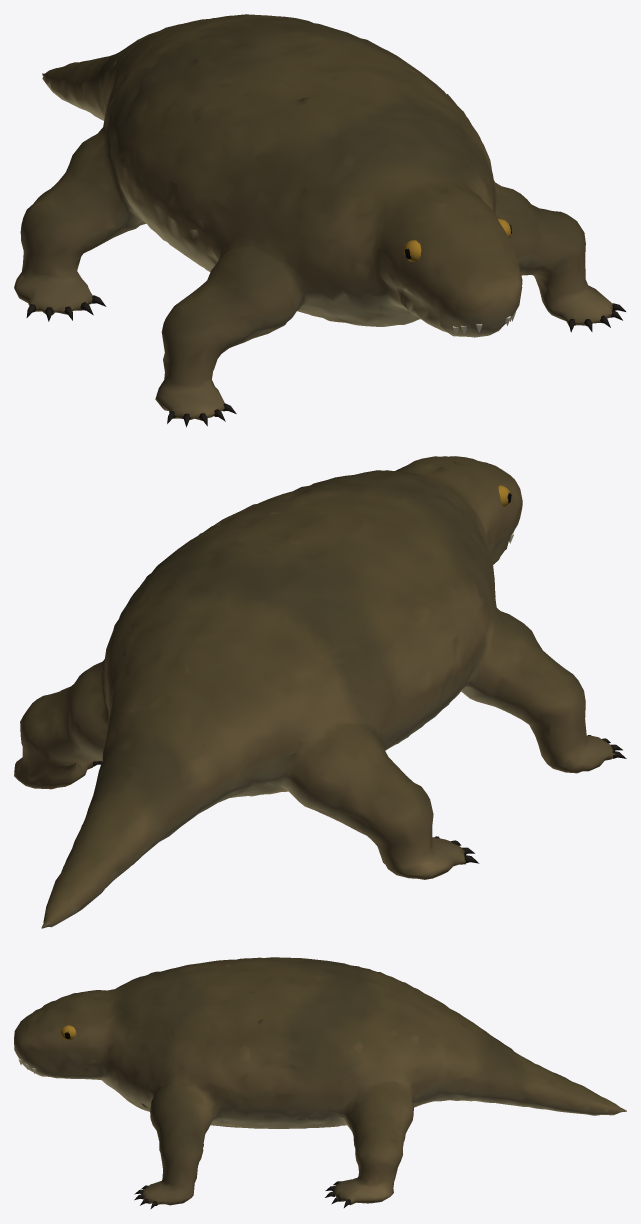
Rendered from Diadectes.fbx.
3 renders of one model, top to bottom at view 1: azimuth 30°, elevation 25°; view 2: azimuth 150°, elevation 25°; view 3: azimuth 270°, elevation 25°, orthographic. The views are drawn at different scales.
Visible parts, largest first — view 1: Diadectes; view 2: Diadectes; view 3: Diadectes.
Part boxes in pixels (x1=…): Diadectes: x1=14, y1=14, x2=625, y2=427; Diadectes: x1=14, y1=456, x2=626, y2=928; Diadectes: x1=14, y1=957, x2=626, y2=1209.
Bounding box in the file's own units: 0.7943 × 0.4046 × 1.37.
